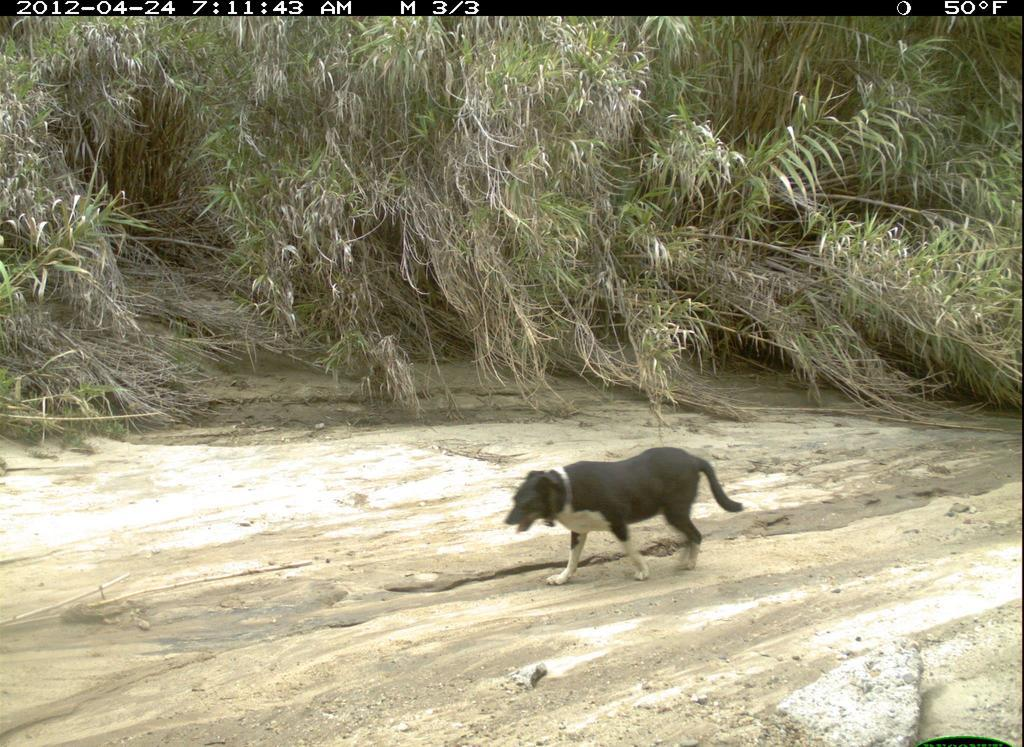dog: (491, 431, 757, 610)
